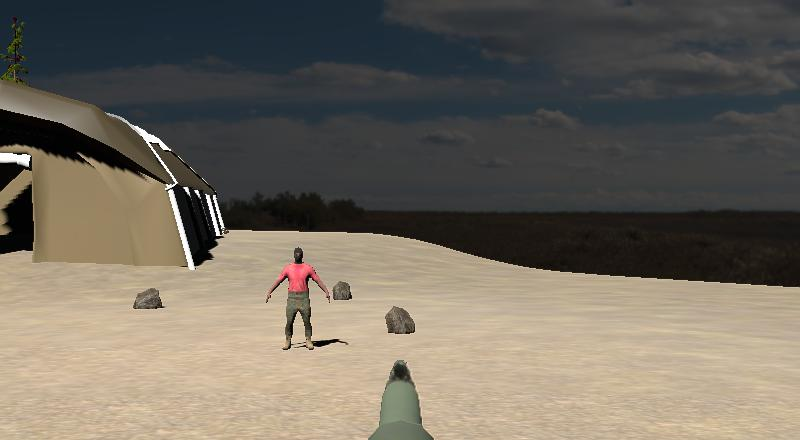Human: (263, 244, 333, 354)
